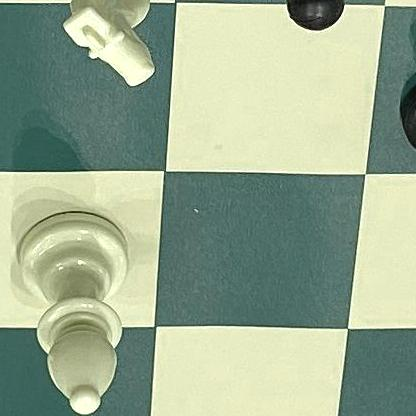black-pawn: (241, 0, 367, 44), (389, 56, 416, 241)
white-bishop: (3, 198, 140, 416)
white-knight: (19, 0, 181, 103)
